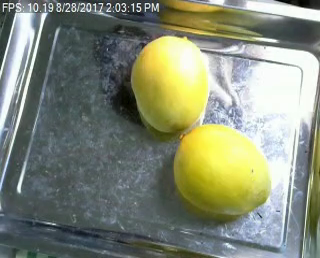Mango: (176, 120, 275, 217), (130, 32, 213, 130)
